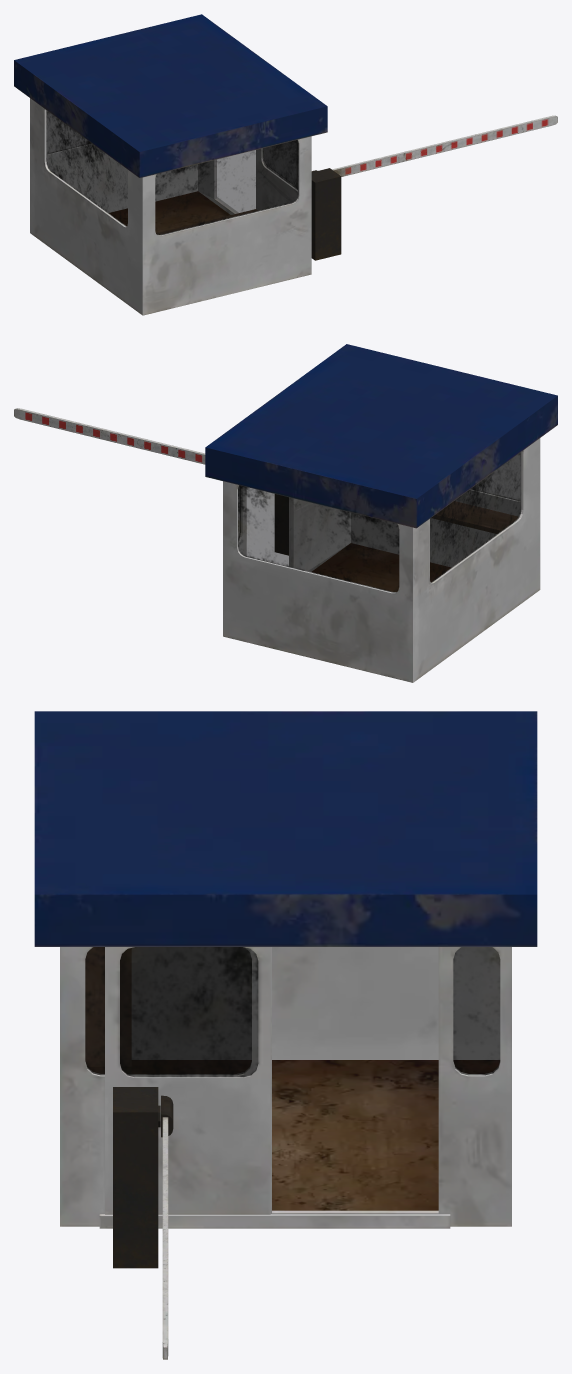
Rendered from guarita.gltf.
3 renders of one model, top to bottom at view 1: azimuth 30°, elevation 25°; view 2: azimuth 150°, elevation 25°; view 3: azimuth 270°, elevation 25°, orthographic. The views are drawn at different scales.
Visible parts, largest first — view 1: guarita; view 2: guarita; view 3: guarita.
Boxes of the visible parts, x1,y1,x2,y2 form: guarita: (14, 14, 557, 315); guarita: (14, 344, 557, 682); guarita: (34, 711, 537, 1359).
Size of the model in its own units: 7.19 by 2.6 by 3.47.
2 materials, 2 textured.
